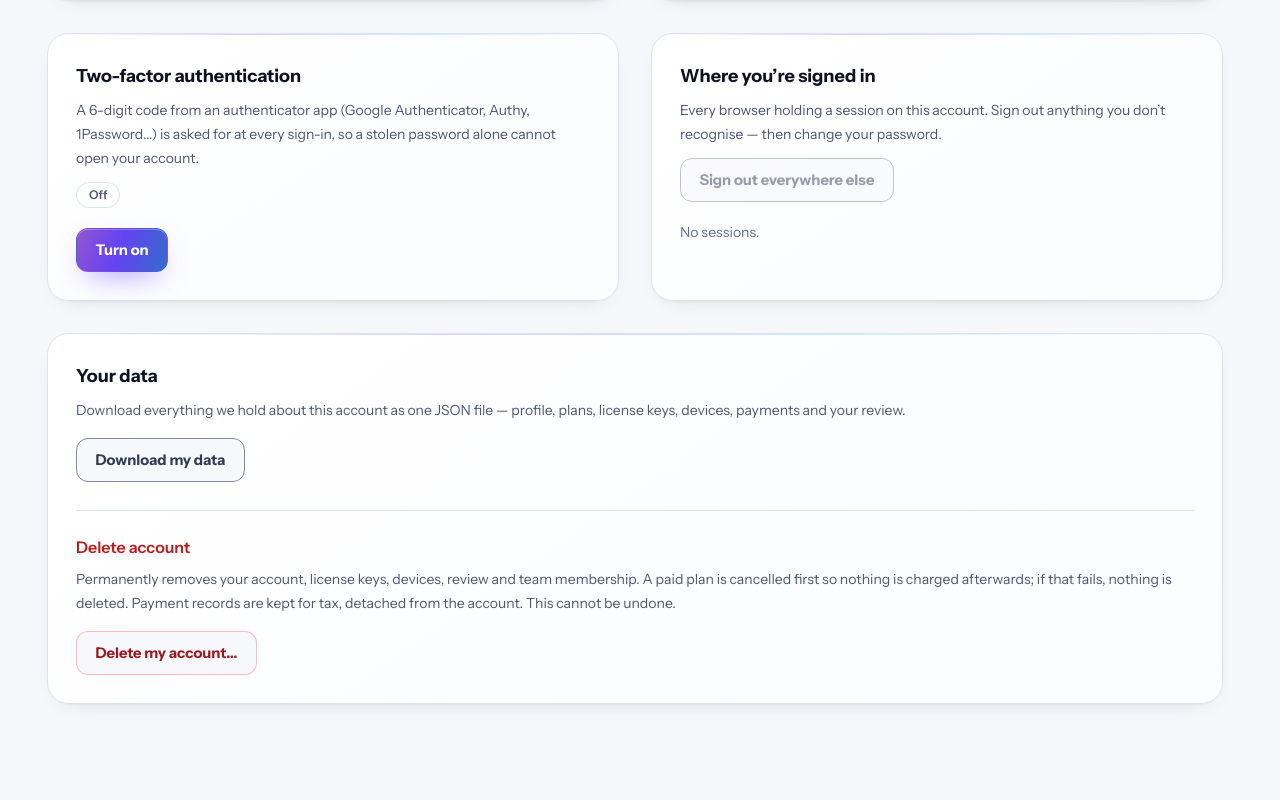
Test case: Profile: Download my data › saves the export the server sent, bare, as the file
(page scrolled)
What coordinates should you click on to do the following:
click the button "Download my data"
I would click on:
 (160, 460)
Its box is x1=76 y1=438 x2=245 y2=482.
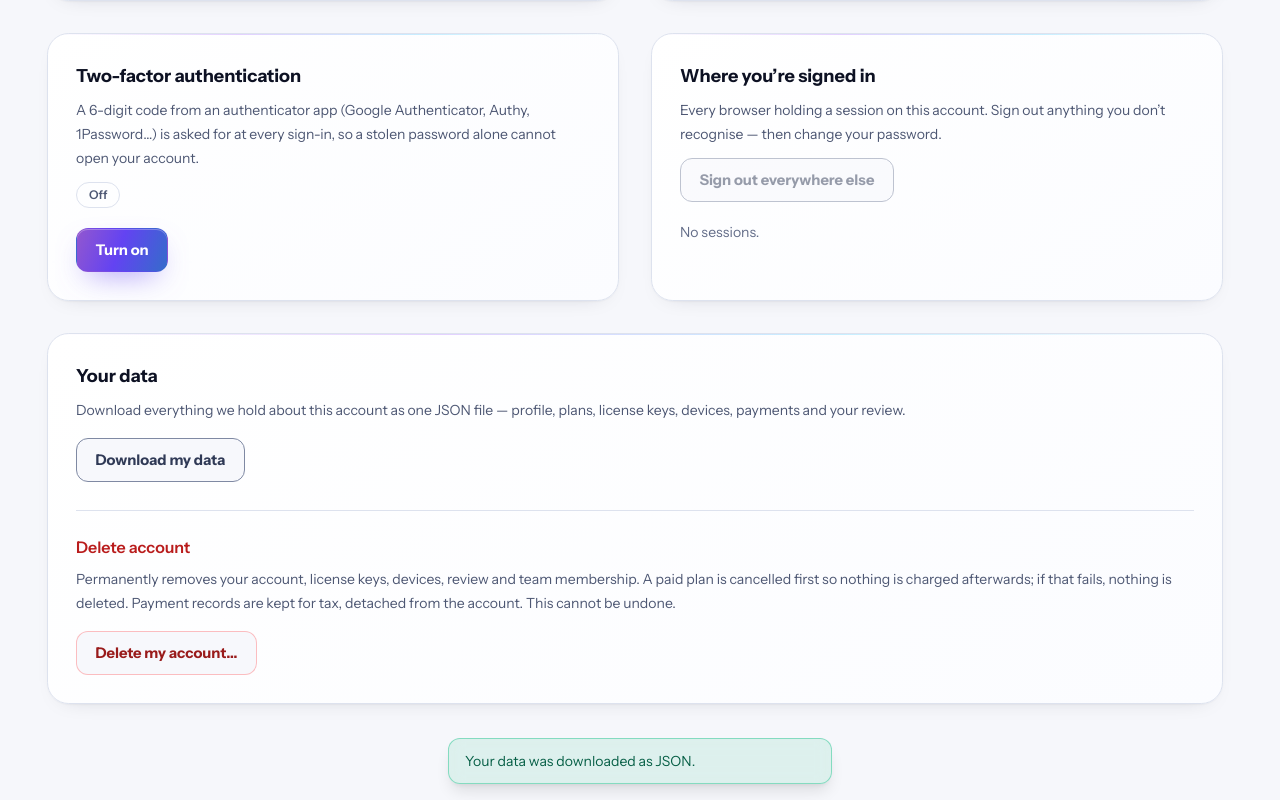
Now the text "Your data was downloaded as JSON." is shown, box x1=448 y1=738 x2=832 y2=784
